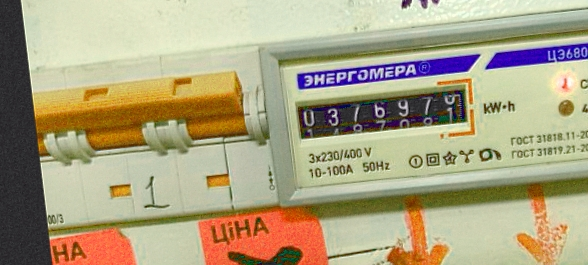0: (301, 106, 316, 127)
1: (443, 104, 457, 123)
3: (325, 105, 340, 126)
6: (371, 96, 386, 119)
7: (347, 100, 363, 122), (419, 93, 434, 116)
9: (395, 96, 410, 118)
screen: (286, 71, 482, 156)
